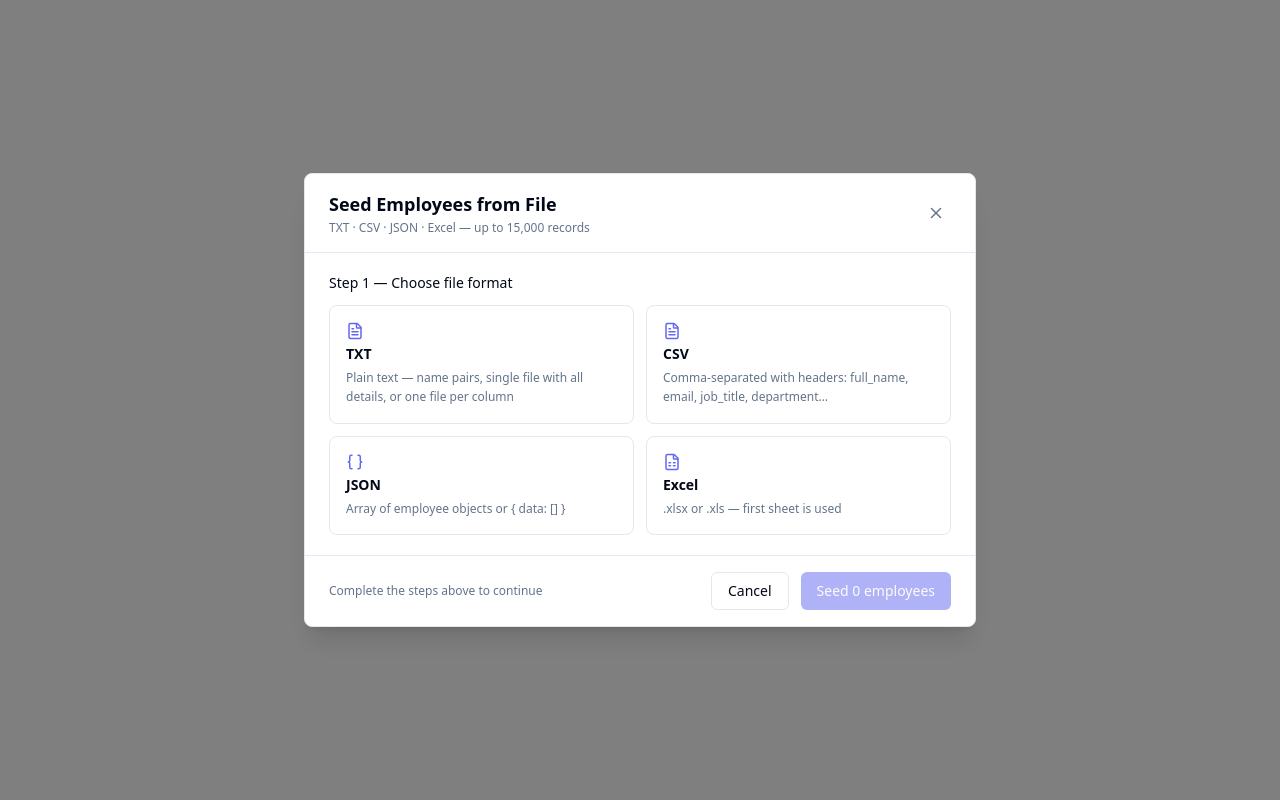
Test: SeedUploader › should show start over button after selecting format
Click the text "CSV" at (676, 353), box [663, 344, 689, 363]
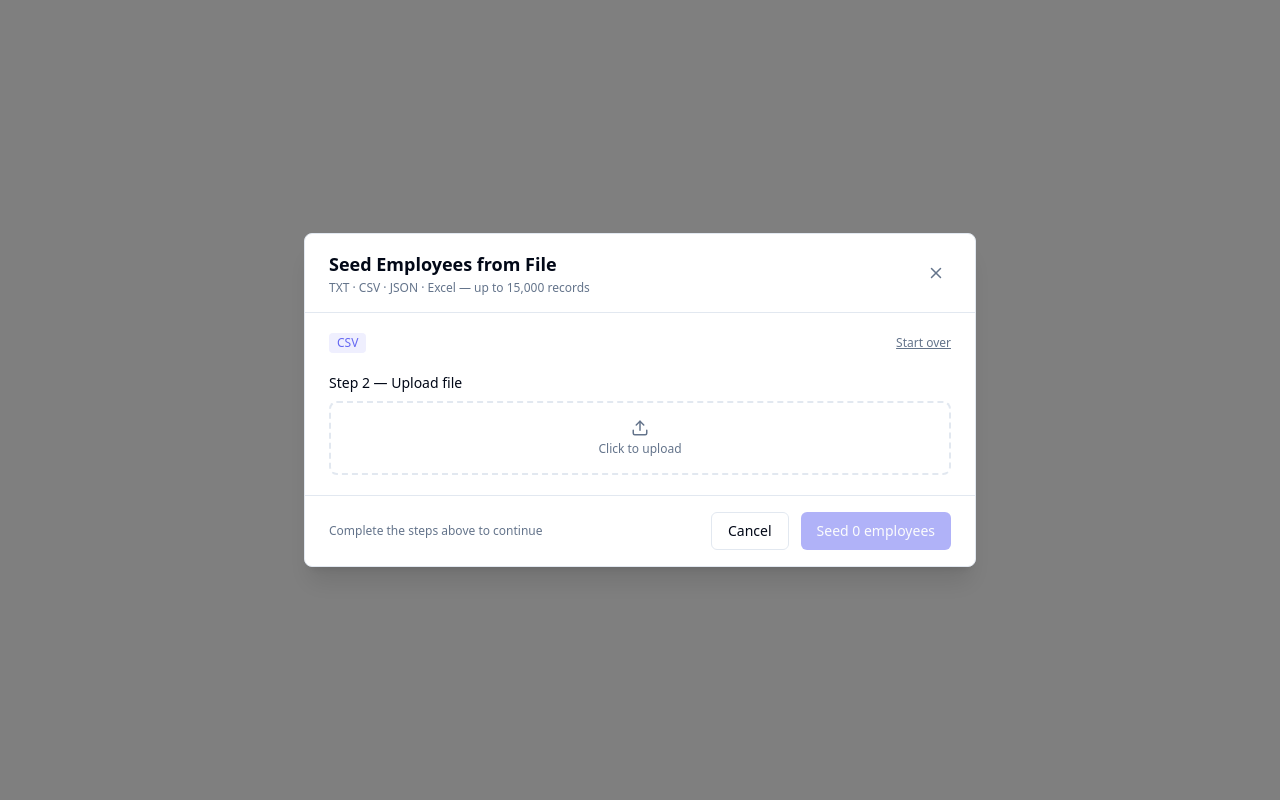
Check: the button "Start over" is shown, box [896, 335, 951, 351]
